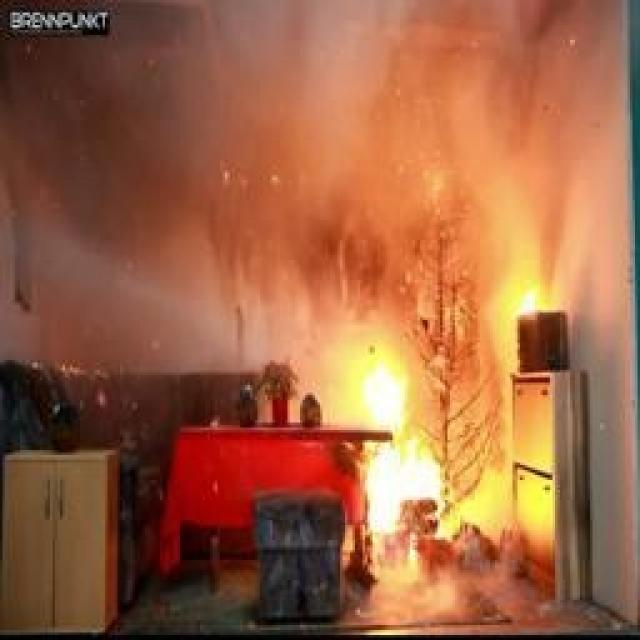fire: (340, 288, 535, 558)
